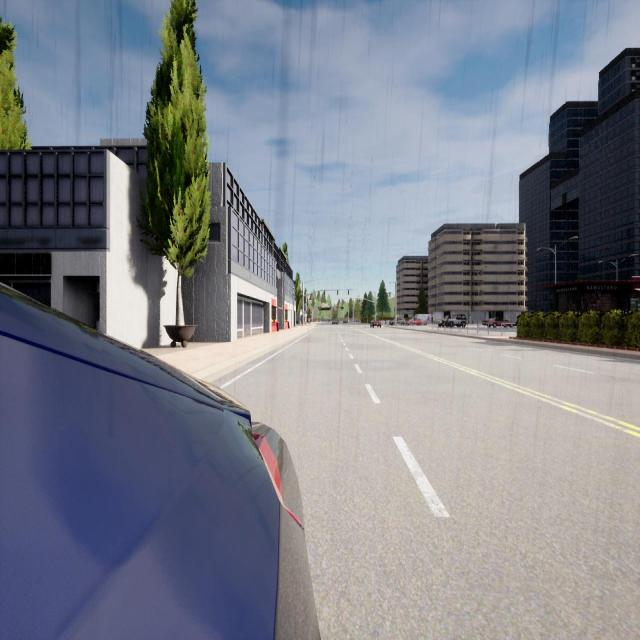Vehicle: (2, 284, 318, 638), (482, 318, 516, 328), (447, 314, 467, 327), (412, 314, 431, 325), (389, 318, 405, 326), (438, 316, 449, 327), (371, 318, 382, 328), (407, 319, 422, 326), (332, 318, 338, 325), (343, 318, 348, 323)
traffic_light: (324, 290, 326, 295), (337, 290, 339, 295), (394, 306, 395, 312), (348, 289, 349, 295), (359, 298, 360, 302), (375, 310, 376, 313), (342, 298, 342, 302), (350, 299, 350, 302), (390, 293, 390, 297)
